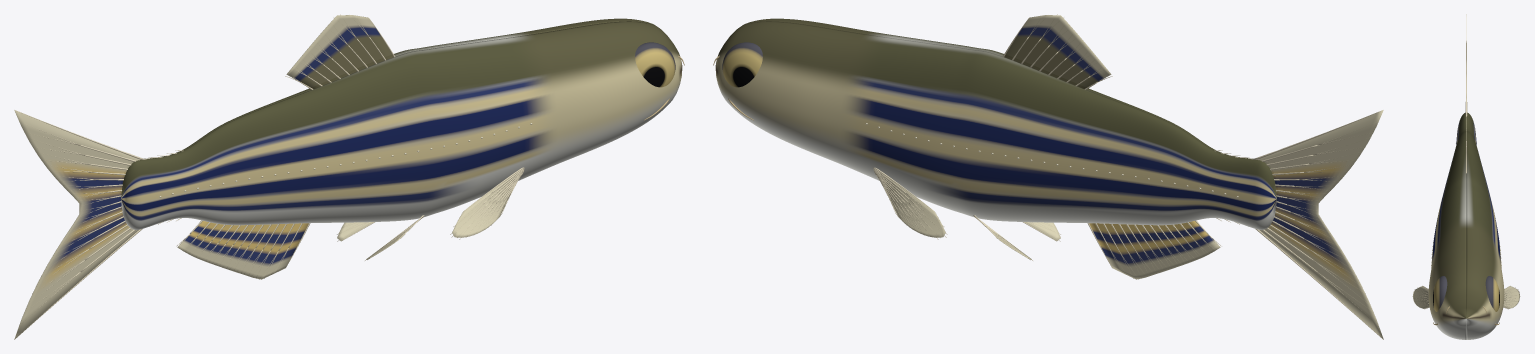
The model's file is zebrafish-adult.glb.
3 renders of one model, left to right at view 1: azimuth 30°, elevation 25°; view 2: azimuth 150°, elevation 25°; view 3: azimuth 270°, elevation 25°, orthographic. The views are drawn at different scales.
Visible parts, largest first — view 1: skin_R, caudal_fin, anal_fin, dorsal_fin, pectoral_fin_R, eye_R, skin_L; view 2: skin_L, caudal_fin, anal_fin, dorsal_fin, pectoral_fin_L, eye_L, skin_R; view 3: skin_R, skin_L, eye_L, eye_R, pectoral_fin_L, pectoral_fin_R, caudal_fin_ray_01.
Part boxes in pixels (x1=…): skin_R: x1=121, y1=21, x2=682, y2=230; caudal_fin: x1=14, y1=110, x2=140, y2=339; anal_fin: x1=177, y1=221, x2=308, y2=279; dorsal_fin: x1=286, y1=15, x2=393, y2=89; pectoral_fin_R: x1=452, y1=171, x2=519, y2=237; eye_R: x1=635, y1=42, x2=675, y2=87; skin_L: x1=144, y1=18, x2=654, y2=158; skin_L: x1=715, y1=21, x2=1276, y2=230; caudal_fin: x1=1257, y1=110, x2=1383, y2=339; anal_fin: x1=1089, y1=221, x2=1220, y2=279; dorsal_fin: x1=1004, y1=15, x2=1111, y2=88; pectoral_fin_L: x1=878, y1=171, x2=945, y2=237; eye_L: x1=722, y1=42, x2=762, y2=87; skin_R: x1=742, y1=18, x2=1253, y2=158; skin_R: x1=1428, y1=112, x2=1466, y2=339; skin_L: x1=1466, y1=112, x2=1504, y2=339; eye_L: x1=1485, y1=276, x2=1499, y2=311; eye_R: x1=1433, y1=276, x2=1447, y2=311; pectoral_fin_L: x1=1503, y1=286, x2=1519, y2=308; pectoral_fin_R: x1=1413, y1=286, x2=1429, y2=308; caudal_fin_ray_01: x1=1465, y1=14, x2=1467, y2=116.
Bounding box in the file's own units: 0.9576 × 0.3404 × 0.1927.
